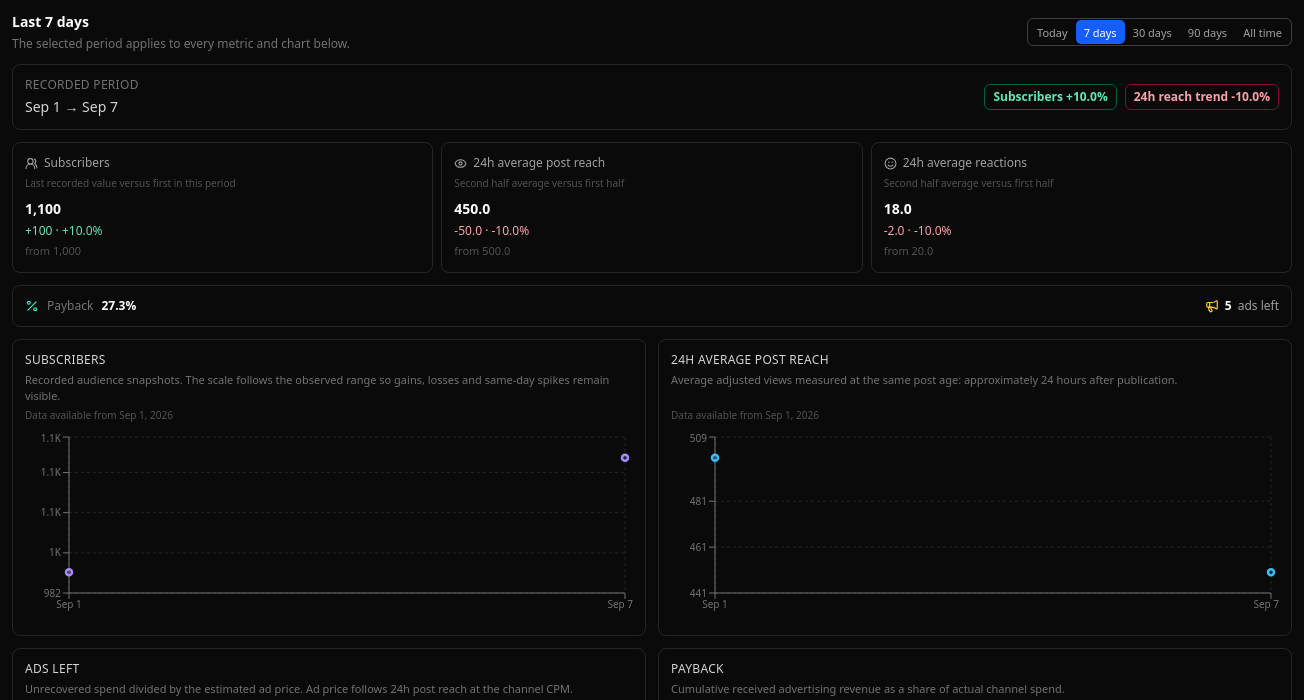
Test: ChannelPerformanceHistoryPanel › offers today and week periods for the entire dynamics view
What coordinates should you click on to do the following:
click the button "Today"
I would click on:
 (1052, 32)
Its box is [1029,20,1076,44].
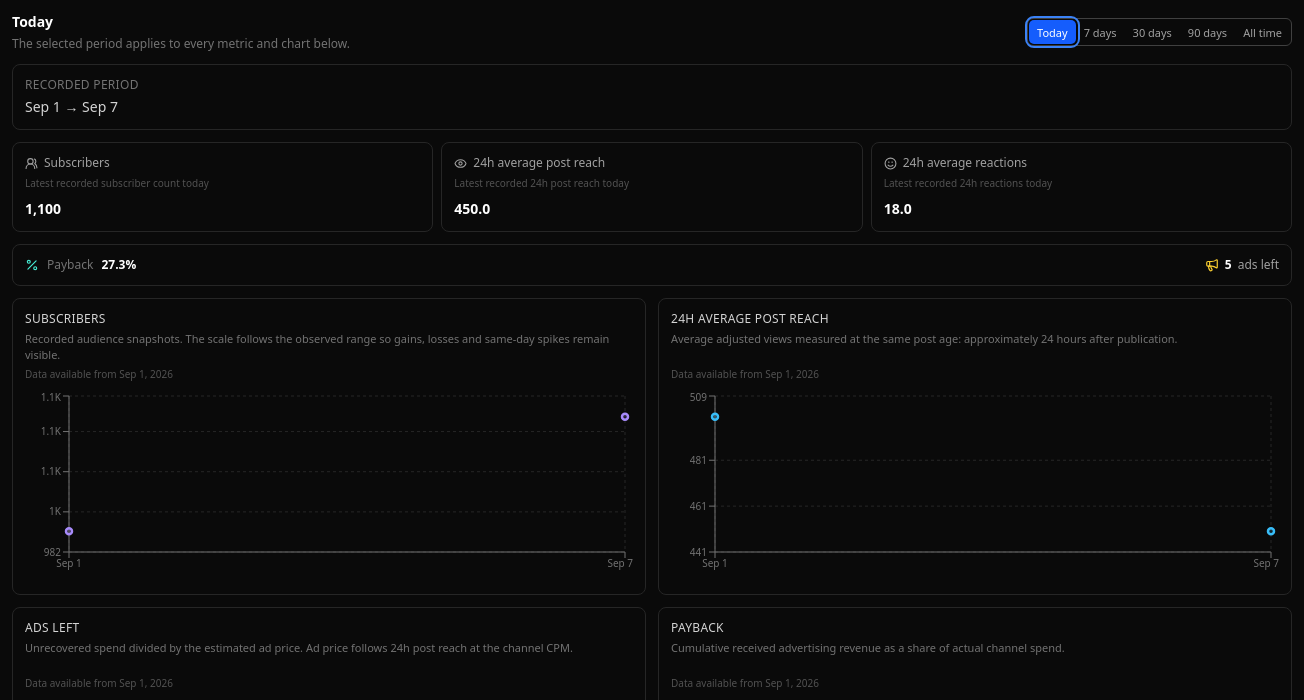
expect the heading "Today" is shown: met, box [12,12,53,31]
What coordinates should you click on to do the following:
click the button "7 days"
I would click on:
 (1100, 32)
Its box is [1076,20,1125,44].
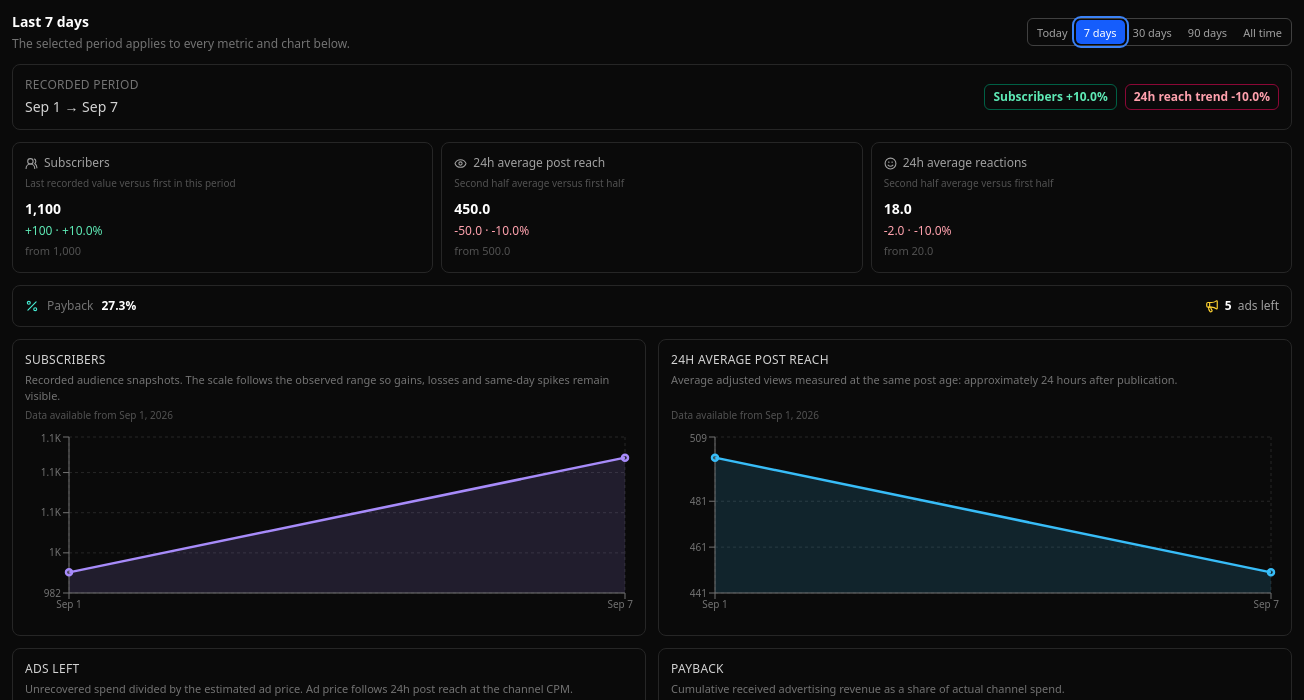
expect the heading "Last 7 days" is shown: met, box [12,12,89,31]
